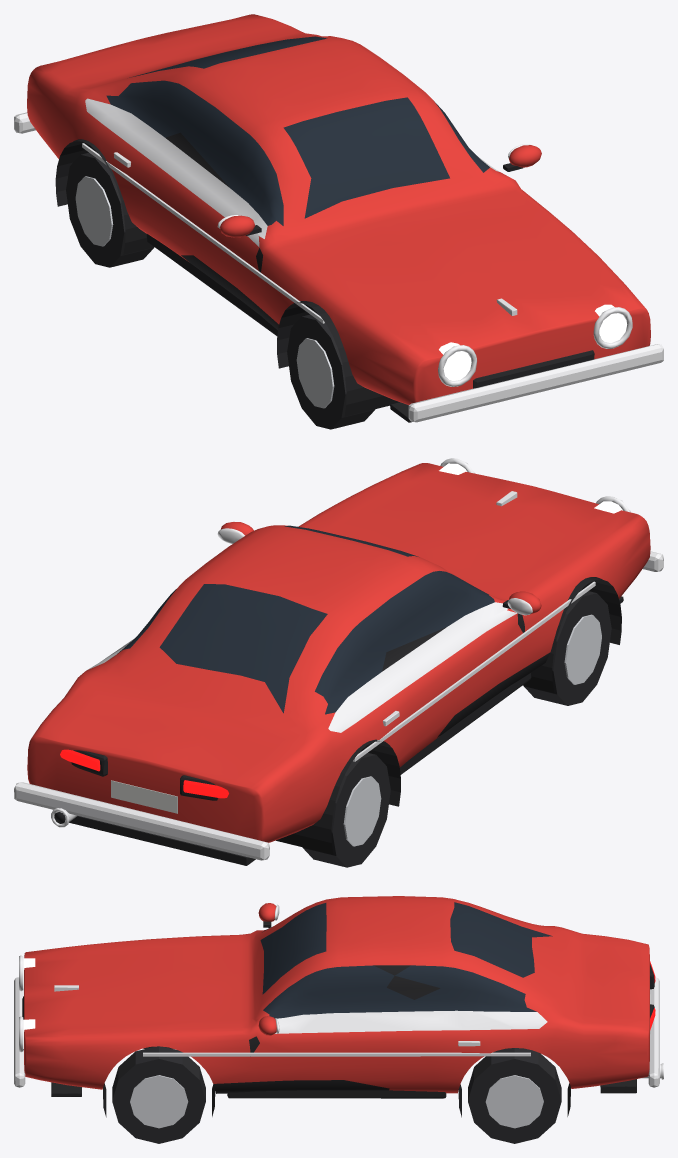
The model's file is vira_lod.glb.
3 renders of one model, top to bottom at view 1: azimuth 30°, elevation 25°; view 2: azimuth 150°, elevation 25°; view 3: azimuth 270°, elevation 25°, orthographic. The views are drawn at different scales.
Visible parts, largest first — view 1: body, wheel_fr, wheel_rr; view 2: body, wheel_rr, wheel_fr; view 3: body, wheel_fl, wheel_rl.
Boxes of the visible parts, x1,y1,x2,y2 form: body: [14, 14, 663, 422]; wheel_fr: [287, 313, 375, 429]; wheel_rr: [66, 151, 153, 267]; body: [14, 458, 663, 865]; wheel_rr: [302, 751, 390, 867]; wheel_fr: [523, 589, 611, 705]; body: [14, 896, 663, 1117]; wheel_fl: [112, 1046, 205, 1143]; wheel_rl: [468, 1048, 561, 1143].
Bounding box in the file's own units: 2.09 × 1.32 × 4.57.
